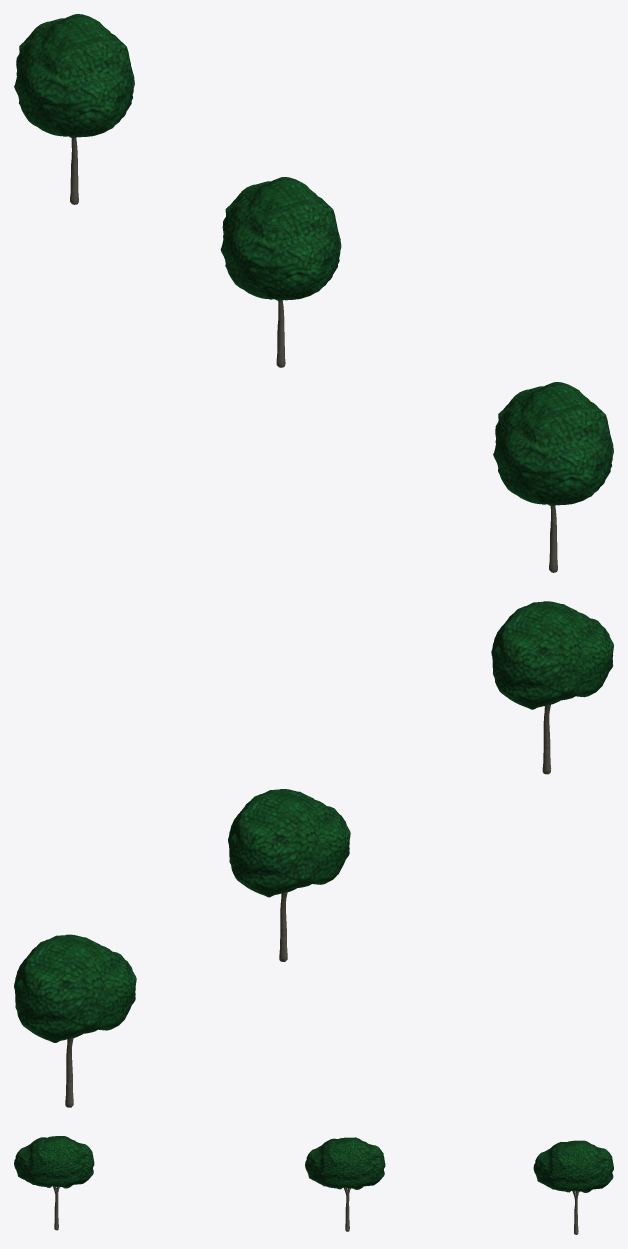
File: arbolesback.obj
3 views of the same model, one above another, from view 1: azimuth 30°, elevation 25°; view 2: azimuth 150°, elevation 25°; view 3: azimuth 270°, elevation 25° (orthographic). The views are drawn at different scales.
Parts seen in each view (by area): view 1: arbolesback; view 2: arbolesback; view 3: arbolesback.
Part boxes in pixels (x1=…): arbolesback: x1=14, y1=14, x2=613, y2=572; arbolesback: x1=14, y1=601, x2=613, y2=1107; arbolesback: x1=14, y1=1136, x2=613, y2=1234.
Bounding box in the file's own units: 3.98 × 5.61 × 32.57.
3 materials, 3 textured.
